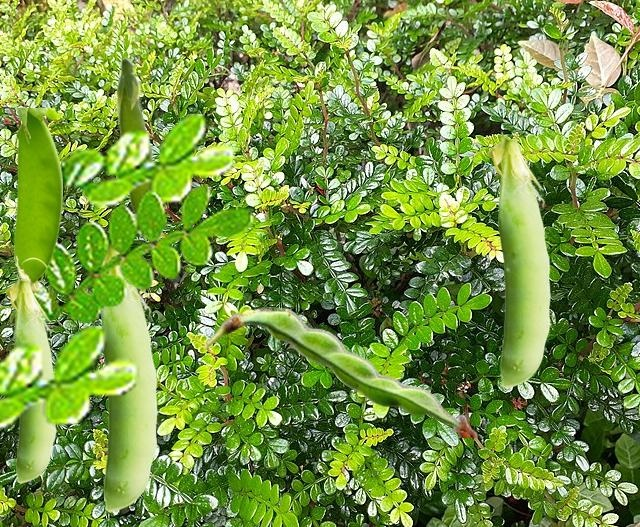pea: (204, 307, 477, 436), (487, 131, 549, 387), (100, 248, 156, 511), (5, 274, 55, 482), (14, 108, 61, 290), (115, 56, 162, 237)
